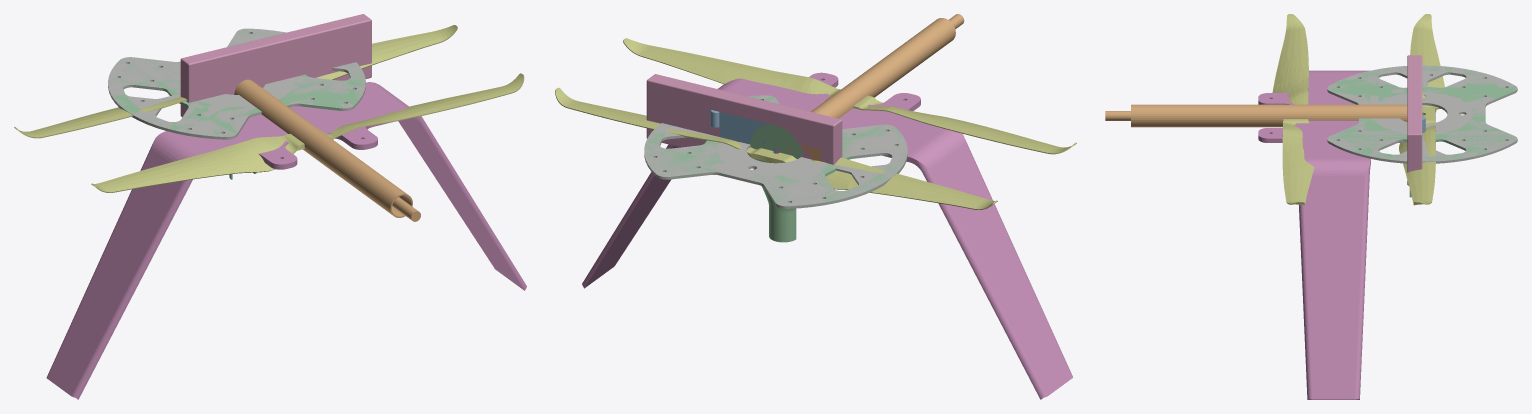
The model's file is case-05_gemini25.glb.
3 views of the same model, side by side, from view 1: azimuth 30°, elevation 25°; view 2: azimuth 150°, elevation 25°; view 3: azimuth 270°, elevation 25° (orthographic). The views are drawn at different scales.
Visible parts, largest first — view 1: c00012, c00007, c00005, c00001, c00003, c00008, c00011; view 2: c00012, c00005, c00007, c00001, c00011, c00003, c00008, c00004, c00010; view 3: c00012, c00005, c00003, c00008, c00001, c00011, c00007.
Boxes of the visible parts, x1,y1,x2,y2 form: c00012: (46,82,526,399); c00007: (180,14,371,117); c00005: (108,28,365,139); c00001: (91,73,524,192); c00003: (234,79,412,217); c00008: (108,28,365,138); c00011: (14,25,457,138); c00012: (582,72,1072,399); c00005: (644,95,907,208); c00007: (646,74,842,164); c00001: (623,38,1076,154); c00011: (555,87,997,209); c00003: (811,18,955,118); c00008: (644,95,906,208); c00004: (750,125,802,242); c00010: (710,110,775,153); c00012: (1258,70,1405,399); c00005: (1327,65,1517,163); c00003: (1131,104,1407,127); c00008: (1328,66,1517,161); c00001: (1272,14,1314,205); c00011: (1399,14,1444,205); c00007: (1407,55,1422,185).
Size of the model in its own units: 367 by 195 by 325.
